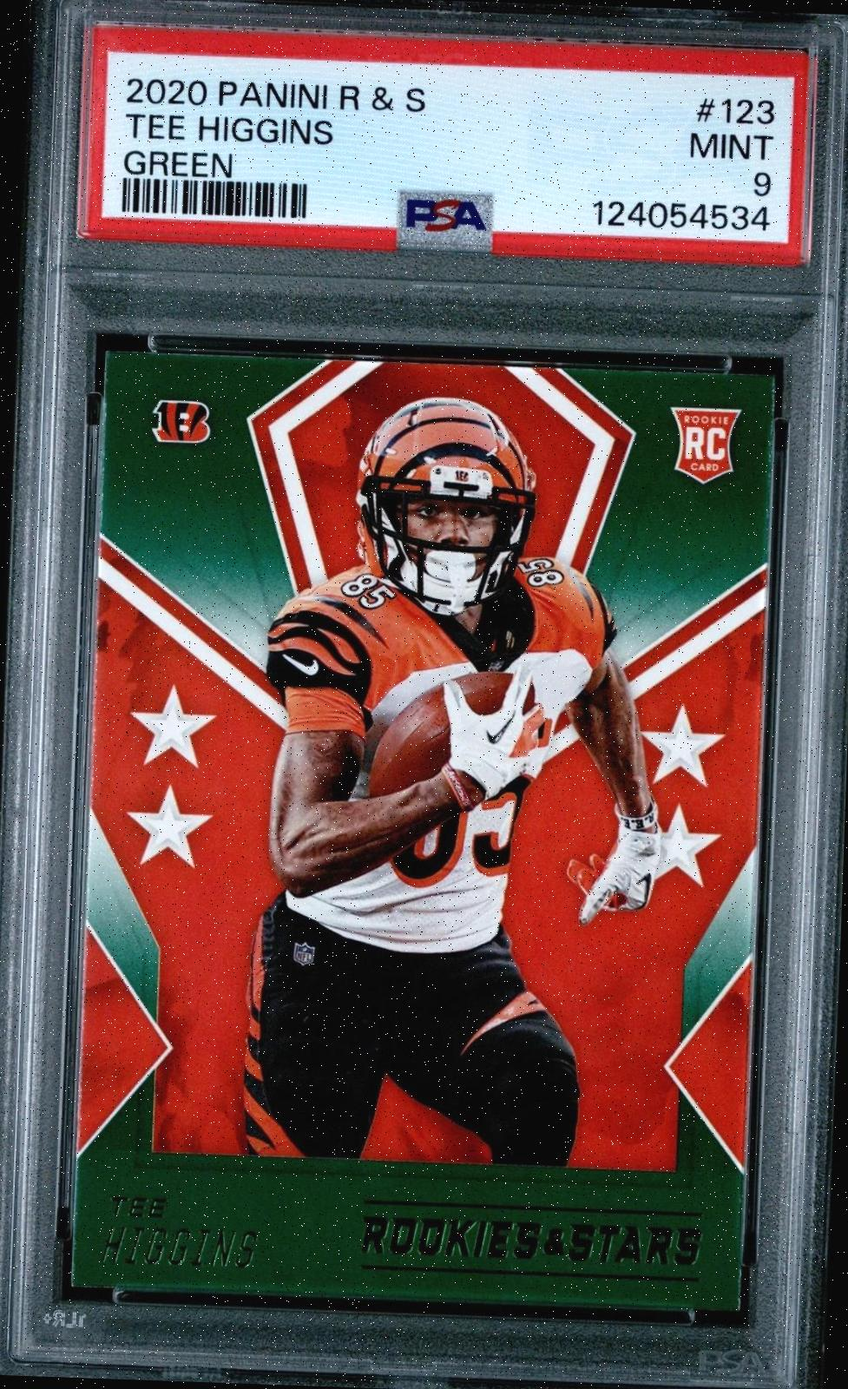card-2UtV: (69, 350, 775, 1312)
